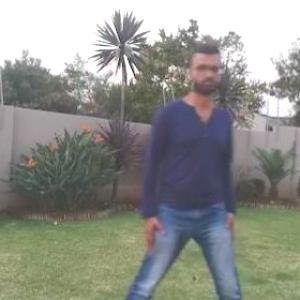follow: (144, 32, 248, 299)
